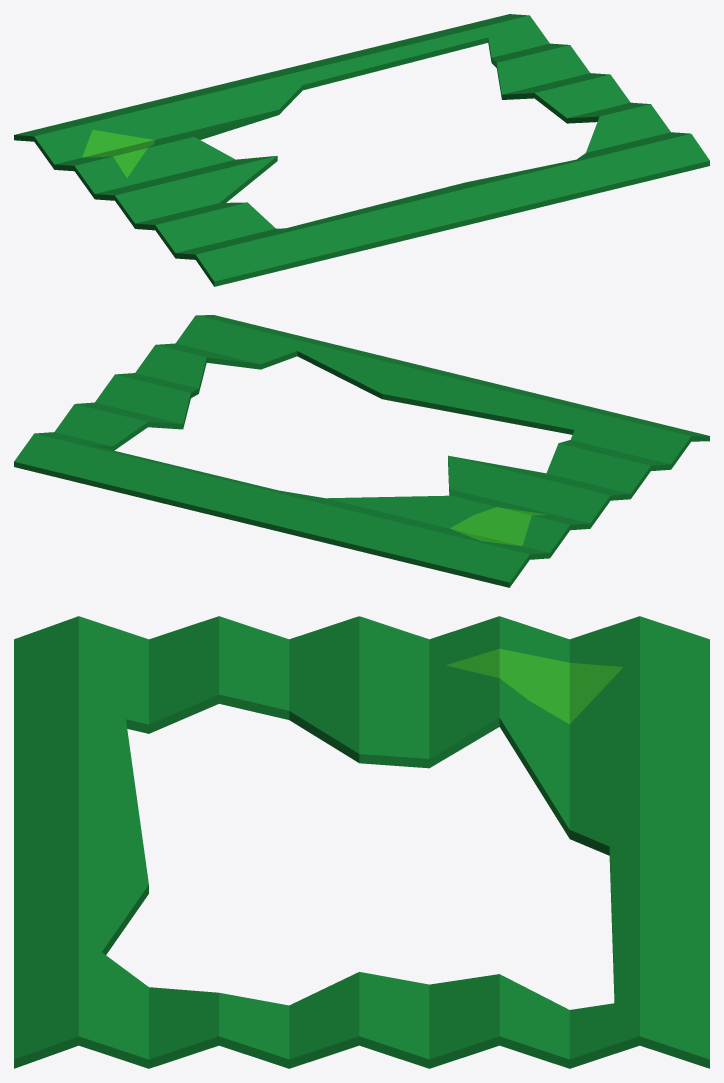
Rendered from SheetMetal_E_3.fbx.
3 renders of one model, top to bottom at view 1: azimuth 30°, elevation 25°; view 2: azimuth 150°, elevation 25°; view 3: azimuth 270°, elevation 25°, orthographic. The views are drawn at different scales.
Visible parts, largest first — view 1: SheetMetal_E_3; view 2: SheetMetal_E_3; view 3: SheetMetal_E_3.
Boxes of the visible parts, x1,y1,x2,y2 form: SheetMetal_E_3: [14, 14, 709, 286]; SheetMetal_E_3: [14, 315, 709, 587]; SheetMetal_E_3: [14, 616, 709, 1068].
Size of the model in its own units: 137 by 4.96 by 96.03.
